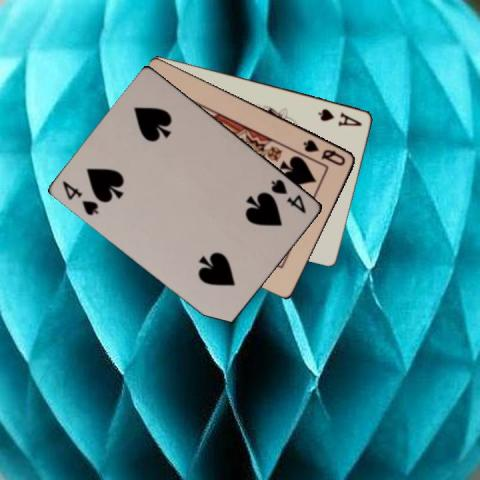4s: (59, 177, 101, 218), (268, 176, 309, 215)
As: (315, 106, 364, 128)
Qs: (301, 136, 347, 167)
